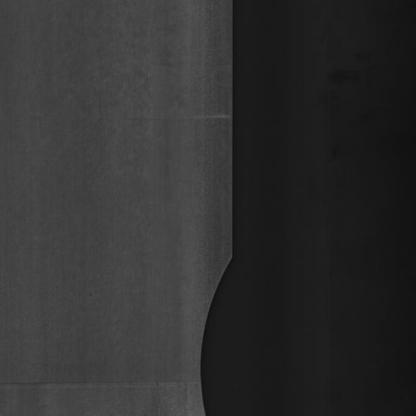crescent_gap: (191, 218, 252, 416)
welding_line: (0, 371, 204, 400)
